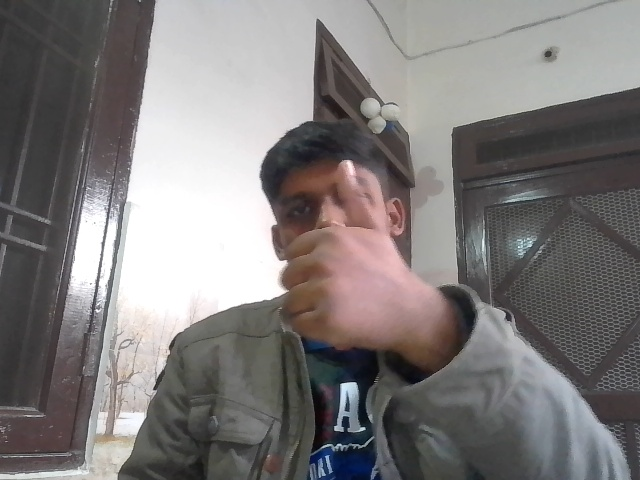BestOfLuck: (276, 153, 403, 368)
